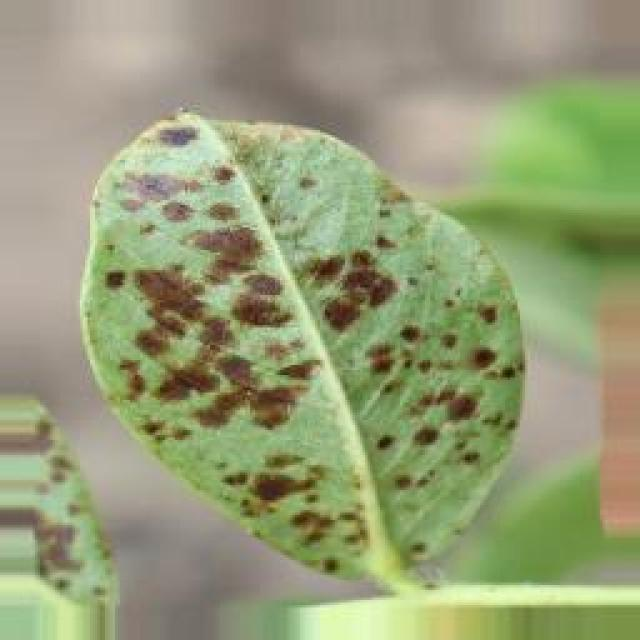Whitefly: (74, 90, 525, 601)
